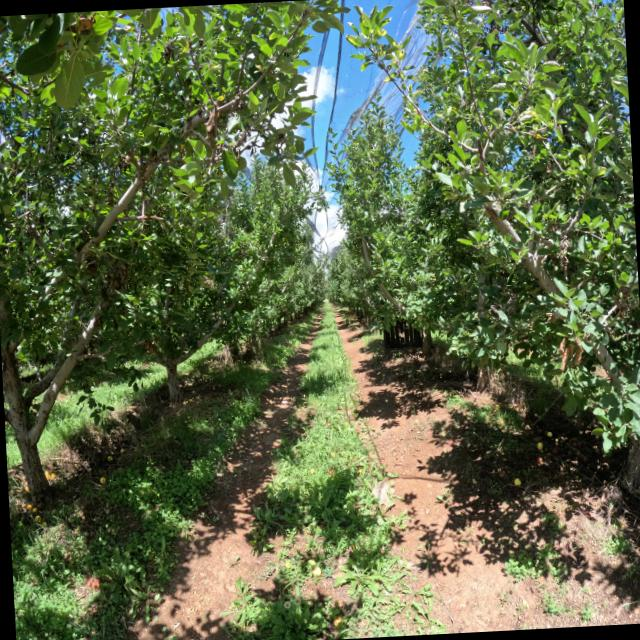-FireBlight-: (199, 110, 227, 162), (558, 336, 584, 372), (67, 15, 97, 36)
